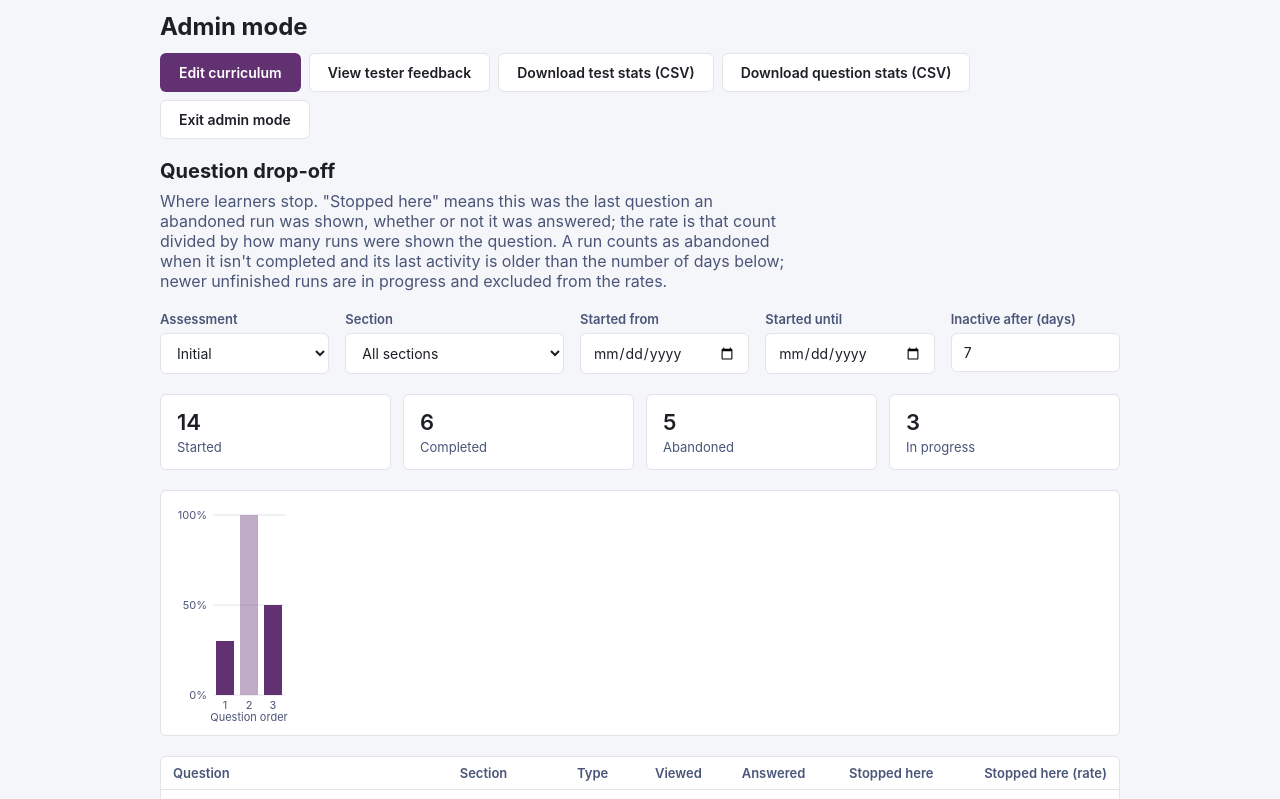
Test: AdminPage question drop-off › does not fetch for an invalid inactivity window
expect the text "Started" is shown: met, box [177,439,222,455]
Step 1. Clear the number field labelled "Inactive after (days)" → point(1035, 352), box [951,333,1120,372]
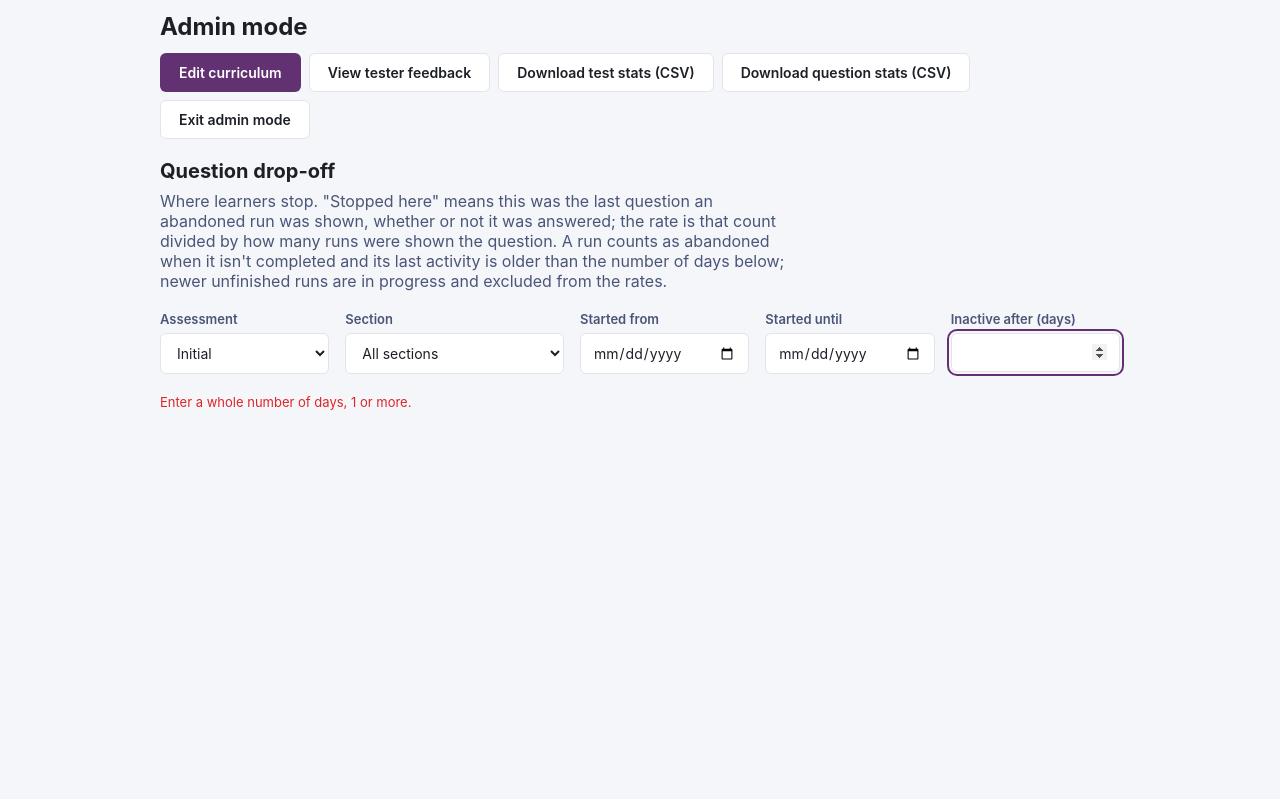
expect the message shows "whole number of days": met, box [160,394,411,410]
